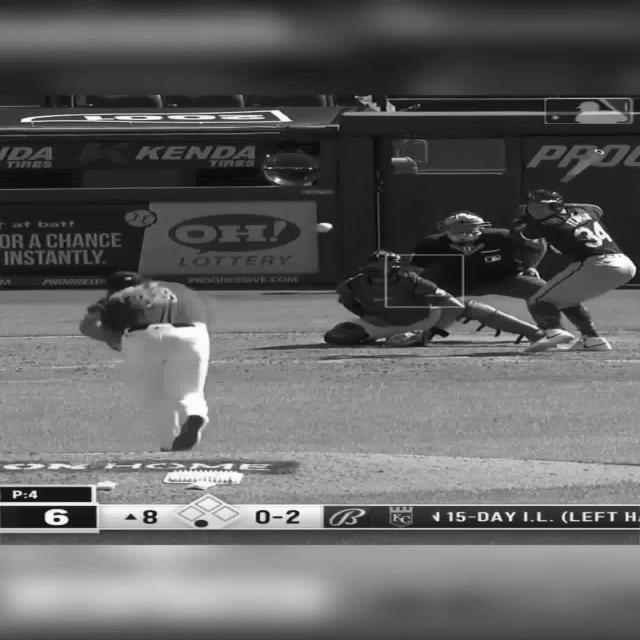baseball: (315, 222, 333, 233)
baseball_glove: (382, 328, 429, 346)
bat: (570, 144, 605, 190)
shoe: (170, 415, 205, 451), (524, 330, 576, 352), (550, 335, 612, 352), (323, 322, 369, 344)
